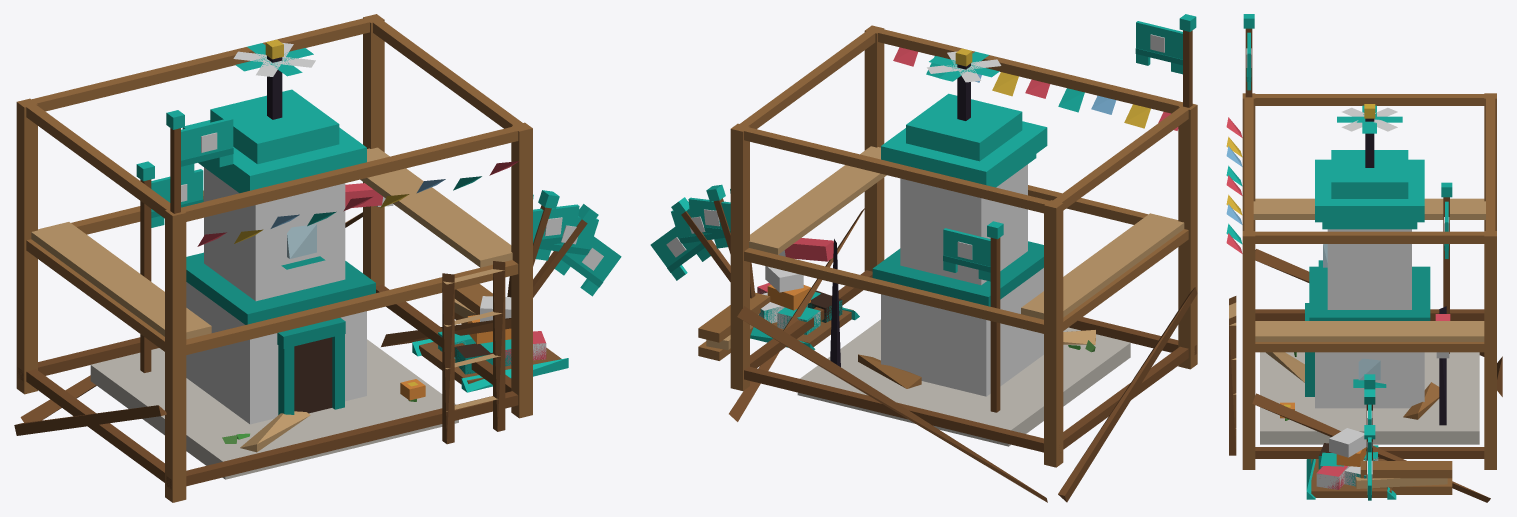
File: hummingbird-research.glb
3 views of the same model, side by side, from view 1: azimuth 30°, elevation 25°; view 2: azimuth 150°, elevation 25°; view 3: azimuth 270°, elevation 25° (orthographic). The views are drawn at different scales.
Visible parts, largest first — view 1: scaffold-mesh, built-mesh, dismantle-75-mesh, dismantle-25-mesh, dismantle-50-mesh, scaffold-banner, dismantle-25-banner, flag-pole, banner, scaffold-flag-pole, dismantle-75-banner, dismantle-50-banner (+2 smaller); view 2: scaffold-mesh, built-mesh, dismantle-75-mesh, dismantle-25-mesh, flag-pole, banner, scaffold-banner, dismantle-50-mesh, dismantle-25-banner, dismantle-50-banner, scaffold-flag-pole, dismantle-75-banner (+2 smaller); view 3: scaffold-mesh, built-mesh, dismantle-25-mesh, dismantle-50-mesh, dismantle-75-mesh, flag-pole, scaffold-flag-pole.
Boxes of the visible parts, x1,y1,x2,y2 form: scaffold-mesh: (14,14,532,502); built-mesh: (90,39,416,479); dismantle-75-mesh: (186,167,568,443); dismantle-25-mesh: (91,296,546,461); dismantle-50-mesh: (186,231,568,452); scaffold-banner: (181,117,233,176); dismantle-25-banner: (554,229,621,296); flag-pole: (136,161,154,372); banner: (151,169,203,227); scaffold-flag-pole: (166,110,184,213); dismantle-75-banner: (533,204,579,246); dismantle-50-banner: (535,213,598,265); scaffold-mesh: (698,25,1197,502); built-mesh: (778,48,1130,446); dismantle-75-mesh: (750,164,1094,396); dismantle-25-mesh: (750,266,1130,430); flag-pole: (987,221,1003,412); banner: (943,228,990,281); scaffold-banner: (1135,21,1182,74); dismantle-50-mesh: (750,232,1095,351); dismantle-25-banner: (650,220,710,280); dismantle-50-banner: (671,206,727,252); scaffold-flag-pole: (1179,14,1196,107); dismantle-75-banner: (688,197,730,235); scaffold-mesh: (1226,93,1502,502); built-mesh: (1309,104,1449,371); dismantle-25-mesh: (1260,352,1479,498); dismantle-50-mesh: (1260,317,1479,499); dismantle-75-mesh: (1284,244,1450,499); flag-pole: (1441,182,1452,353); scaffold-flag-pole: (1243,14,1254,97).
Bounding box in the file's own units: 2.73 × 2.1 × 1.51.
